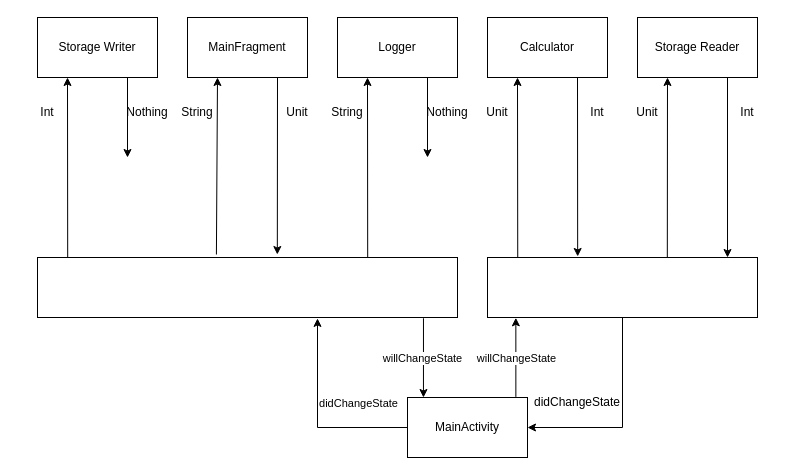
Image size: 794x475. Some labels were removed from this diagram. Each missing label, with the box of its shape:
Display: (36, 256, 458, 318)
Domain: (486, 256, 758, 318)
